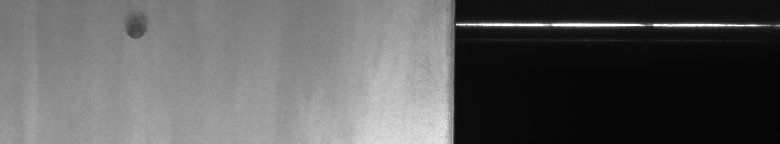fi: (120, 15, 152, 47)
